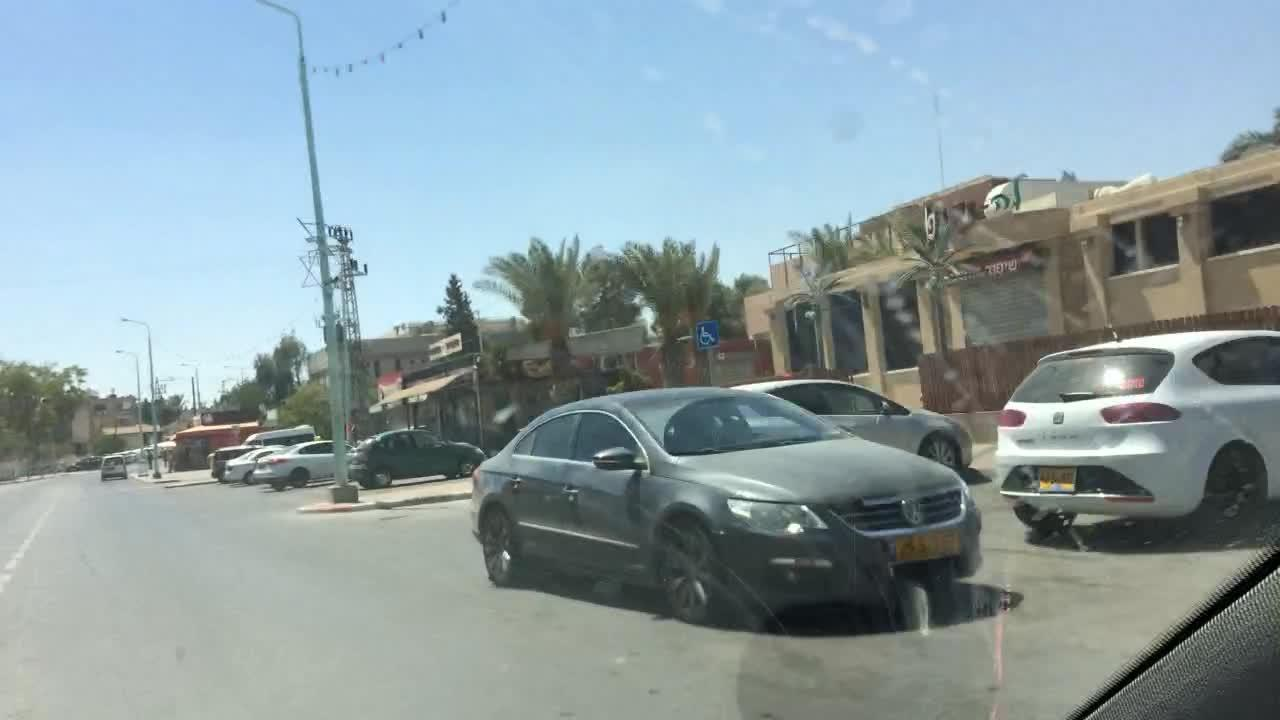Volkswagen: (895, 493, 929, 529)
